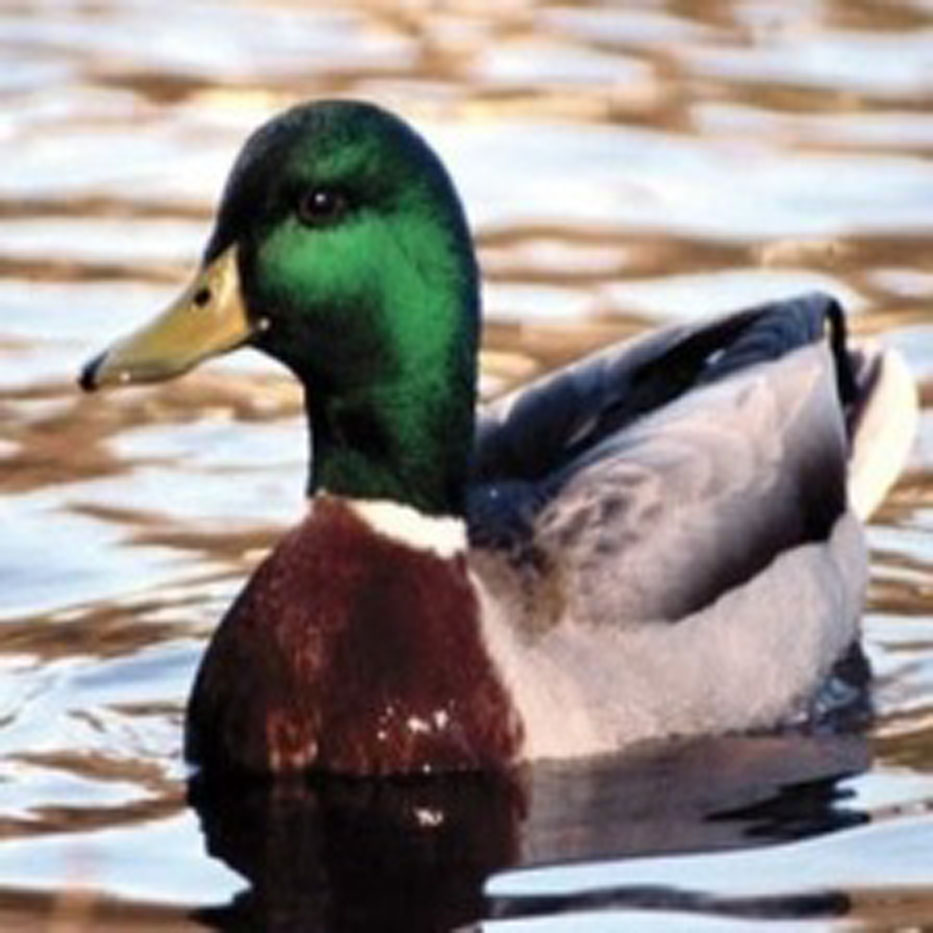Mencari Makan di Lumpur: (54, 232, 270, 401)
